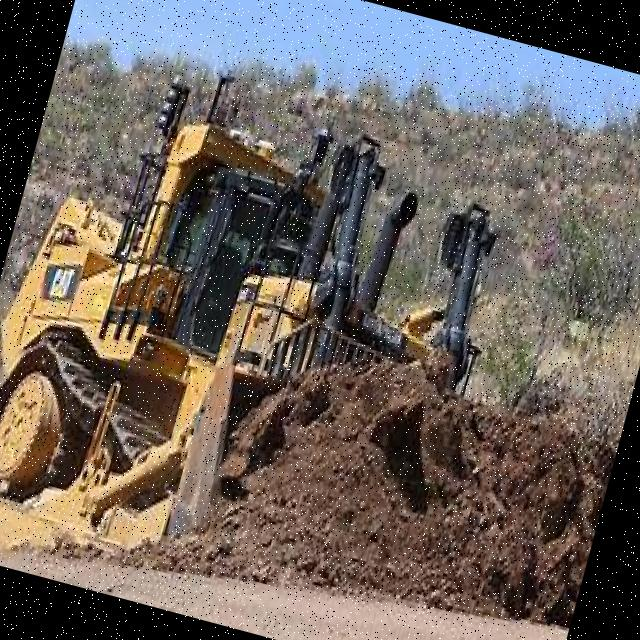Bulldozer: (0, 46, 559, 640)
